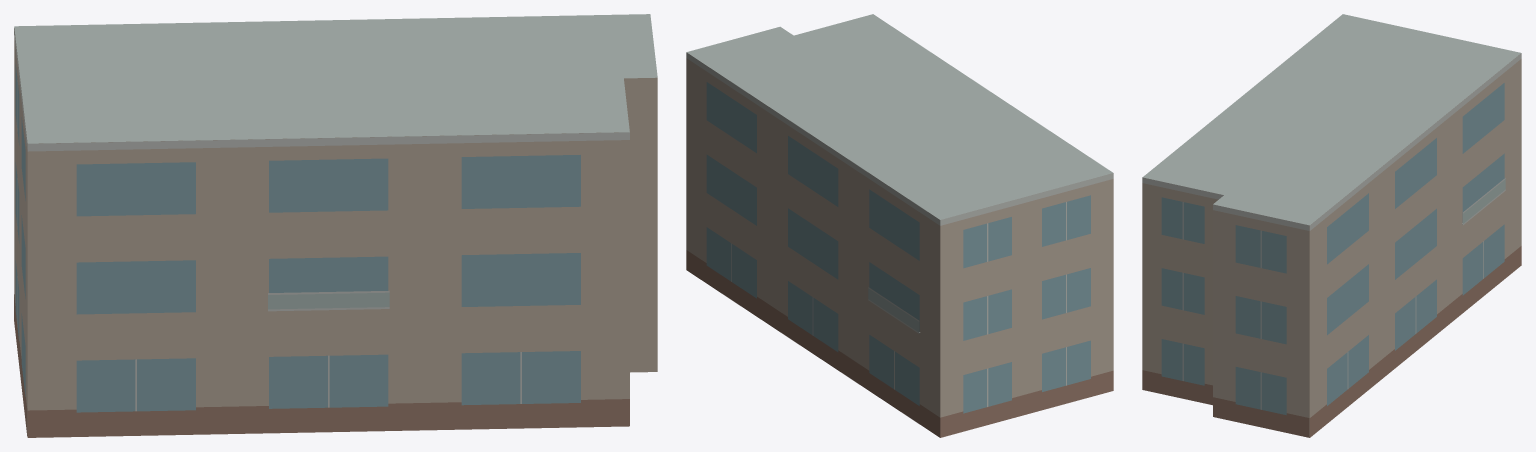
Rendered from survey-upis-32803611.glb.
The picture shows the model from 3 angles, left to right: view 1: azimuth 30°, elevation 25°; view 2: azimuth 150°, elevation 25°; view 3: azimuth 270°, elevation 25°; orthographic projection. The views are drawn at different scales.
Visible parts, largest first — view 1: survey-upis-32803611.tmp; view 2: survey-upis-32803611.tmp; view 3: survey-upis-32803611.tmp.
Boxes of the visible parts, <box> form: survey-upis-32803611.tmp: <box>14,14,657,437</box>; survey-upis-32803611.tmp: <box>686,14,1113,437</box>; survey-upis-32803611.tmp: <box>1142,14,1521,437</box>.
Bounding box in the file's own units: 19.54 × 9.15 × 14.81.
